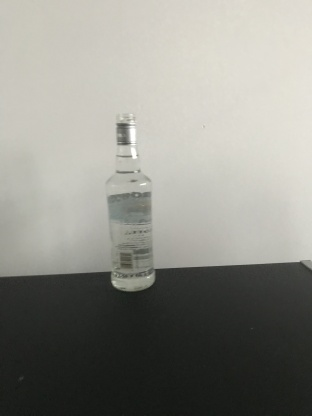nakretka: (114, 110, 138, 145)
